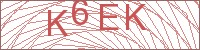6: (71, 1, 91, 27)
E: (98, 2, 120, 32)
K: (123, 2, 149, 32), (45, 8, 69, 38)
